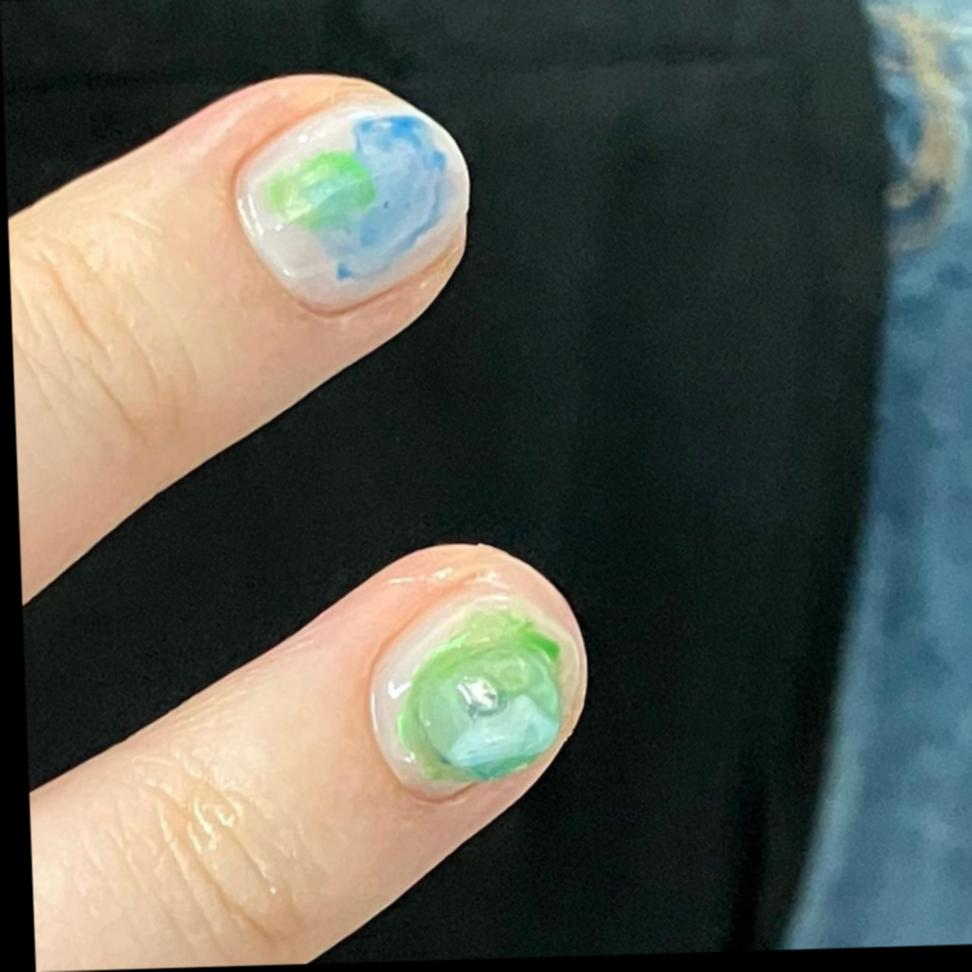nail: (3, 64, 488, 651), (20, 535, 599, 972), (226, 87, 474, 317)
